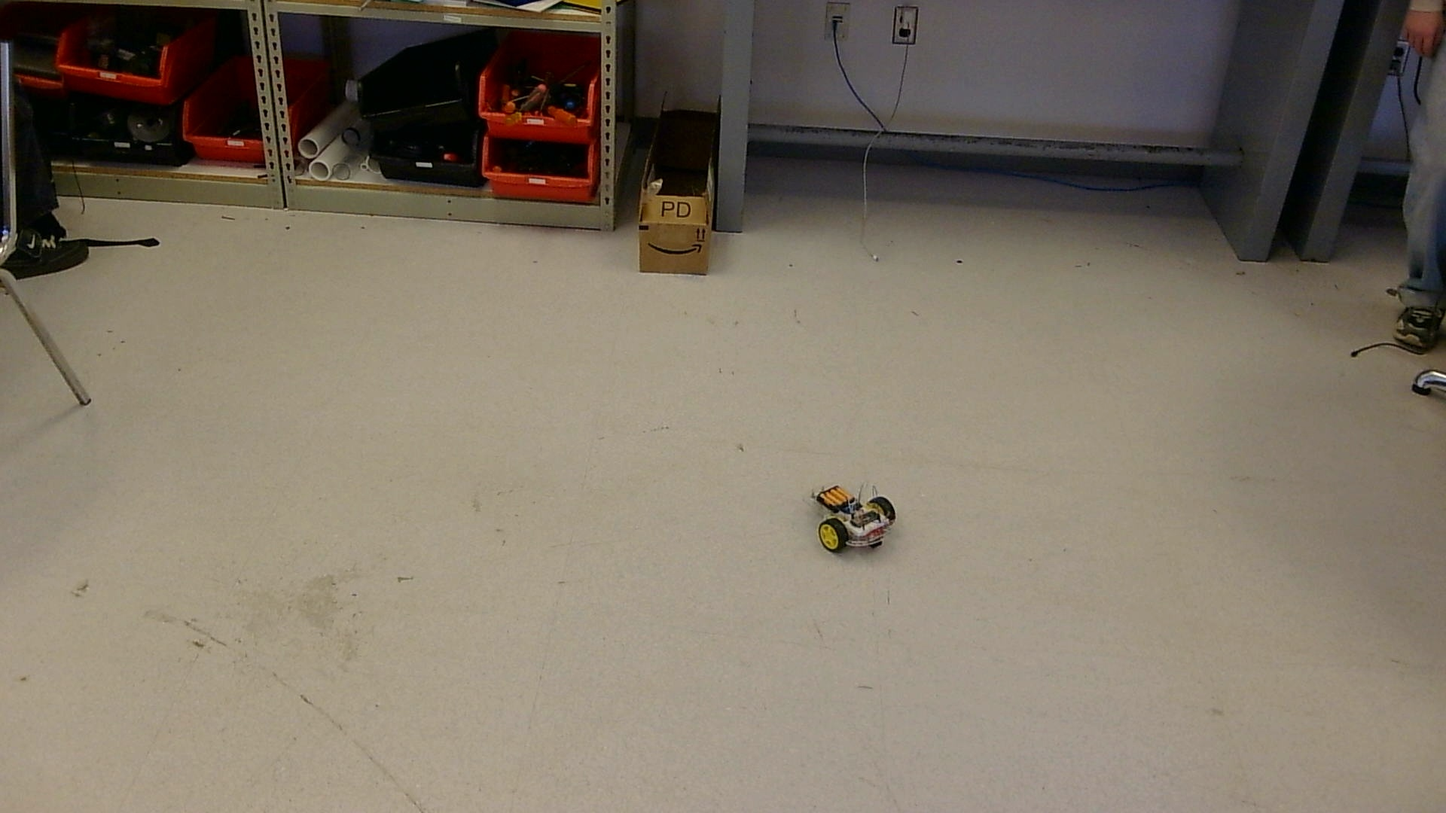robot: (813, 486, 896, 552)
